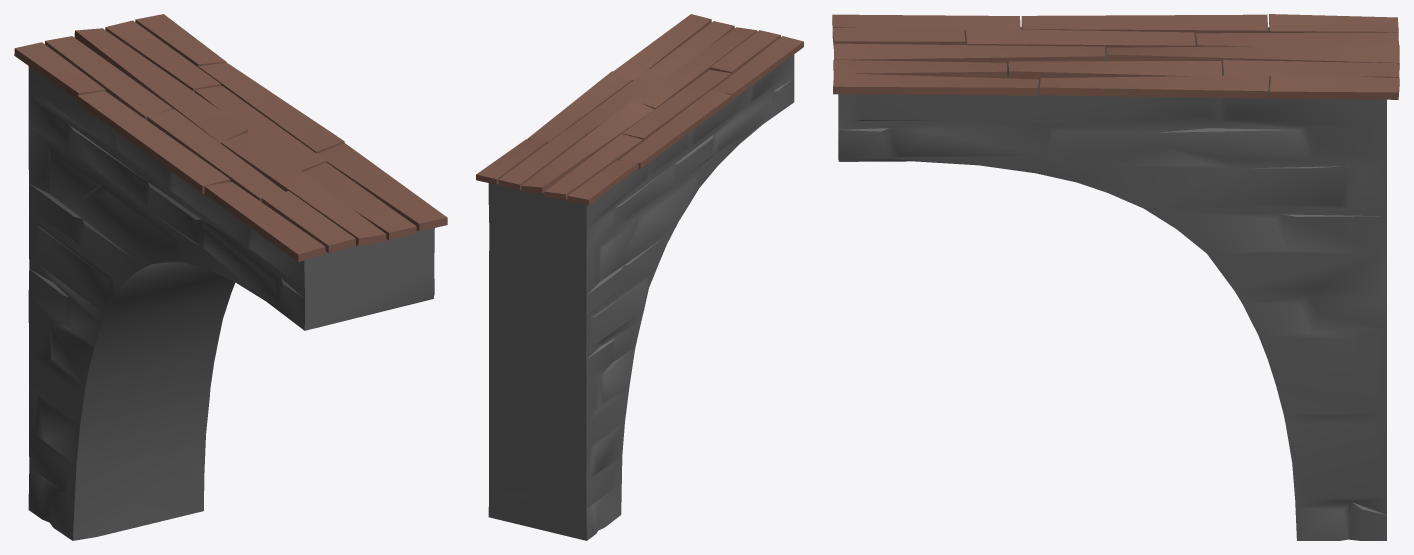
The model's file is civilian_bridge_2_b.FBX.
3 views of the same model, side by side, from view 1: azimuth 30°, elevation 25°; view 2: azimuth 150°, elevation 25°; view 3: azimuth 270°, elevation 25° (orthographic). The views are drawn at different scales.
Parts seen in each view (by area): view 1: civilian_bridge_2_b_LOD0; view 2: civilian_bridge_2_b_LOD0; view 3: civilian_bridge_2_b_LOD0.
Part boxes in pixels (bbox=[...]): civilian_bridge_2_b_LOD0: bbox=[14, 14, 447, 540]; civilian_bridge_2_b_LOD0: bbox=[476, 14, 803, 540]; civilian_bridge_2_b_LOD0: bbox=[832, 14, 1399, 540].
Size of what is drawn, in the model's own units: 211 by 612 by 682.
